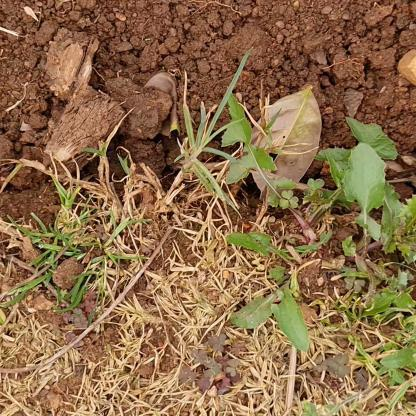Weeds: (222, 92, 415, 378)
